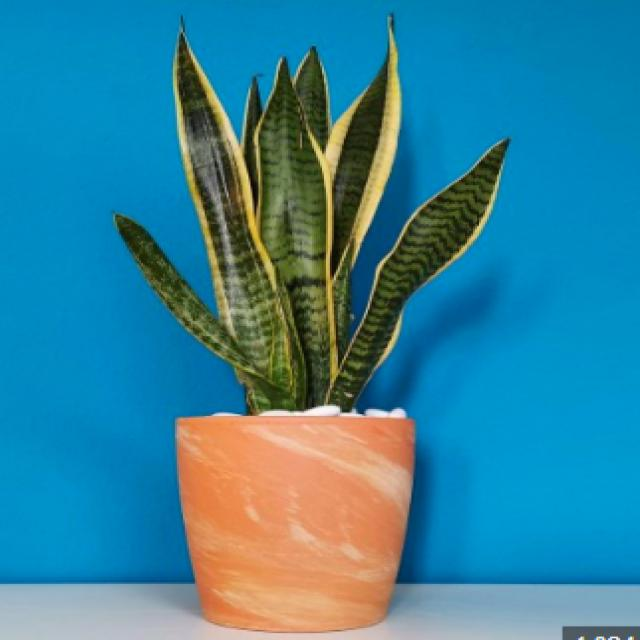Plant Pot: (159, 407, 445, 640)
